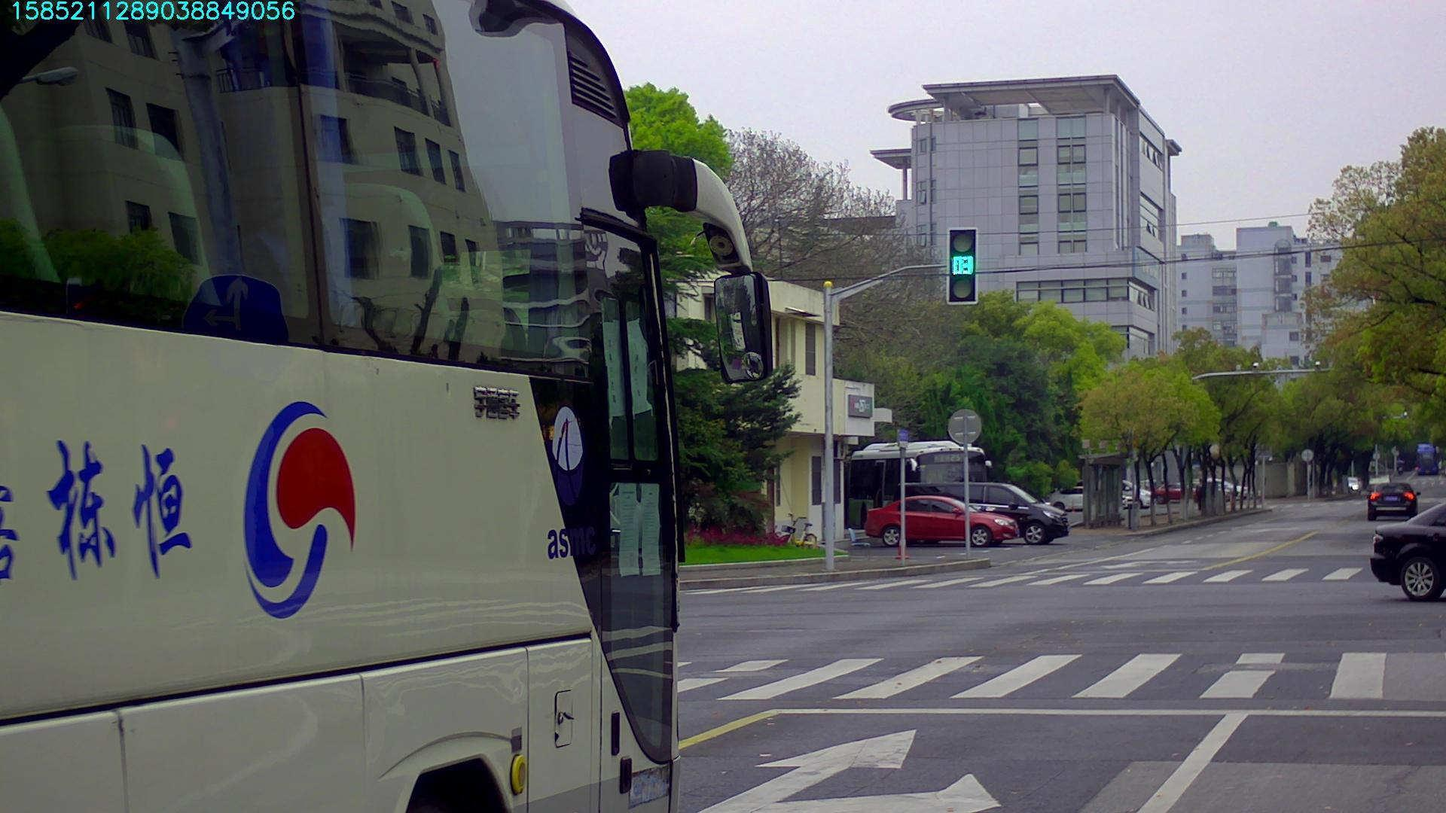green: (948, 227, 976, 303)
